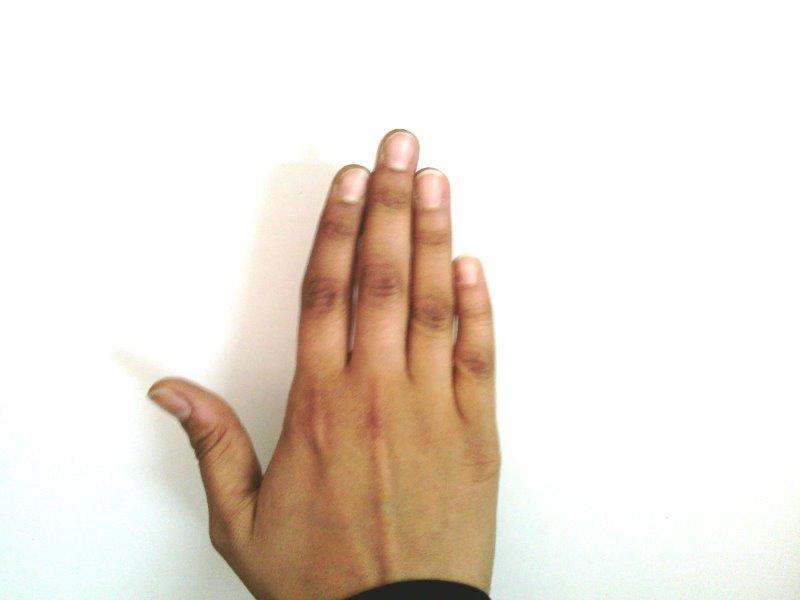hand: (148, 130, 503, 585)
